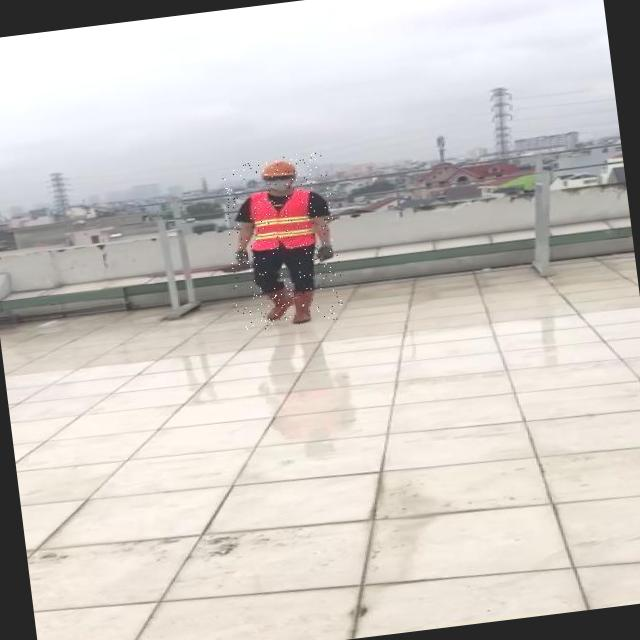boots: (288, 284, 318, 326), (263, 284, 294, 322), (312, 242, 334, 262), (230, 248, 250, 270)
gloves: (311, 240, 336, 260), (232, 246, 254, 267)
helmet: (259, 156, 297, 178)
vest: (248, 188, 317, 252)
